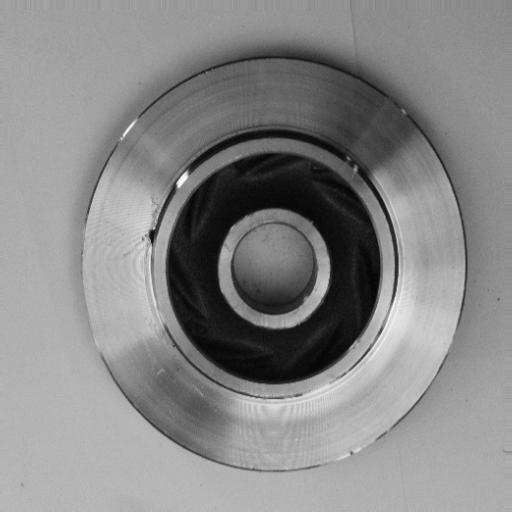crack: (128, 180, 171, 270)
scratch: (294, 425, 398, 487), (338, 146, 368, 196)
unpolished_casting: (77, 54, 470, 475)
